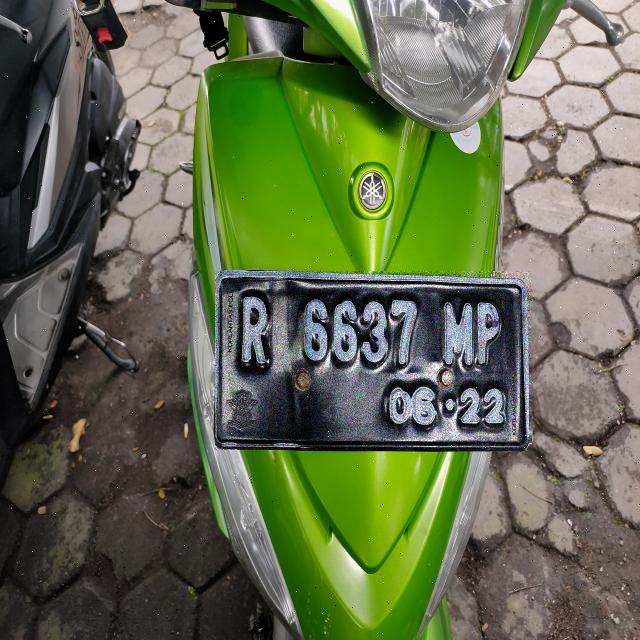plate: (215, 271, 529, 449)
